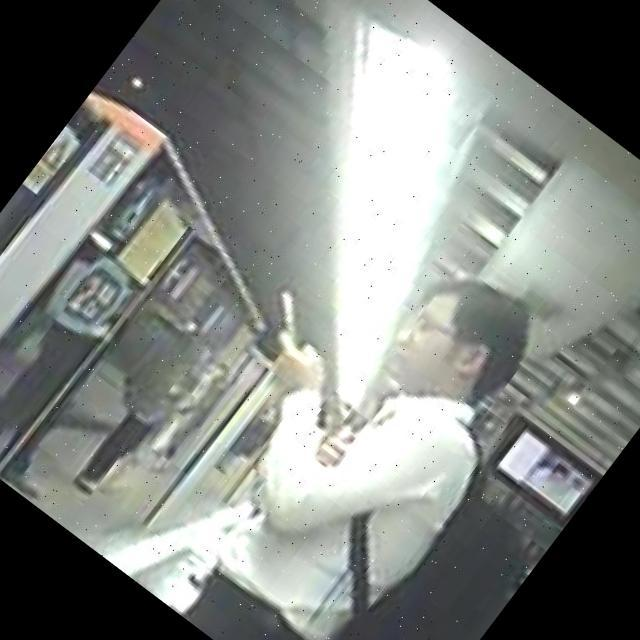person: (106, 189, 592, 640), (0, 221, 197, 506), (66, 314, 240, 514)
